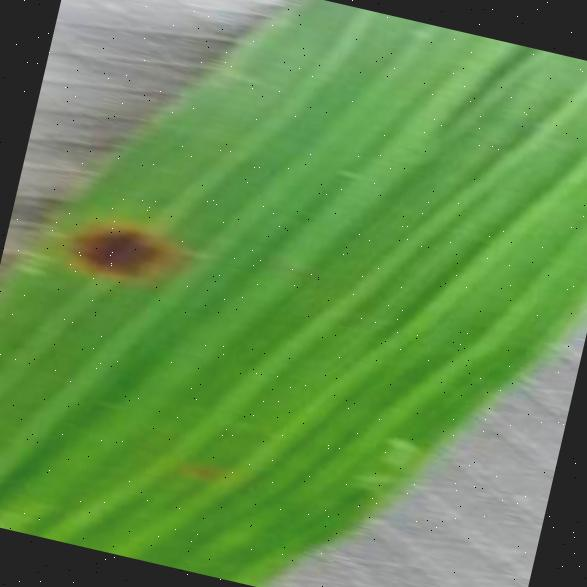Brown_Spot: (22, 170, 201, 320)
